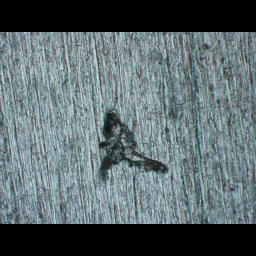d: (94, 107, 170, 186)
